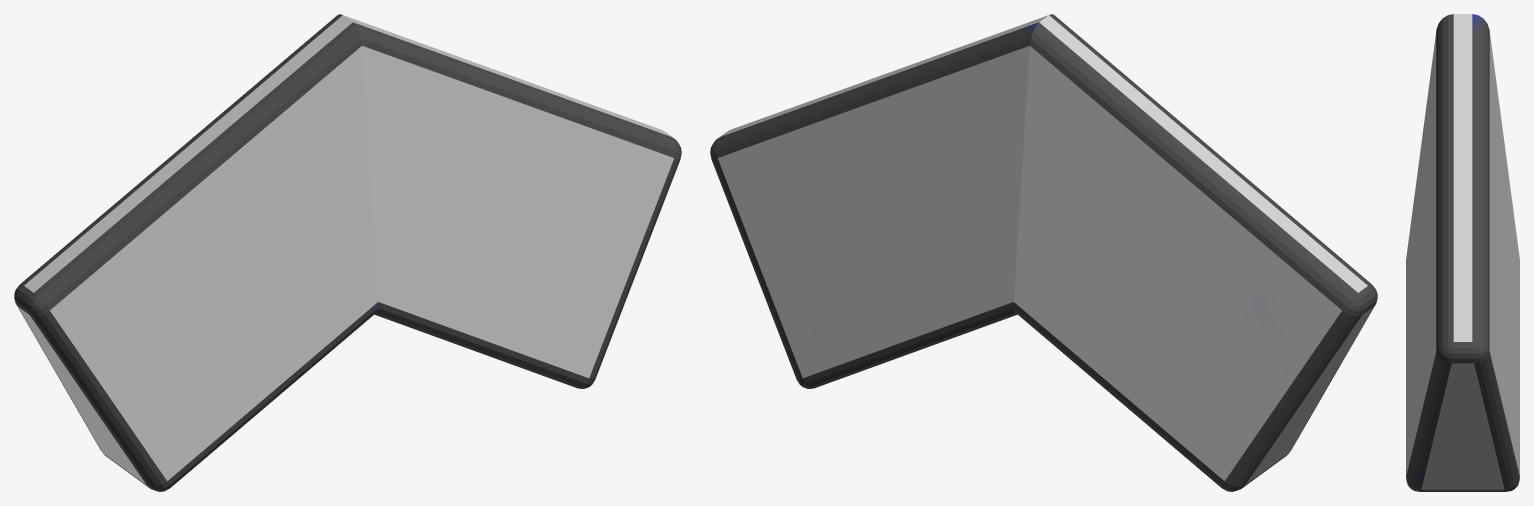
File: superjumpItem.fbx
3 renders of one model, left to right at view 1: azimuth 30°, elevation 25°; view 2: azimuth 150°, elevation 25°; view 3: azimuth 270°, elevation 25°, orthographic. The views are drawn at different scales.
Parts seen in each view (by area): view 1: Cube; view 2: Cube; view 3: Cube.
Part boxes in pixels (x1,y1,x2,y2): Cube: [14, 14, 681, 491]; Cube: [710, 14, 1377, 491]; Cube: [1406, 14, 1519, 491].
Size of the model in its own units: 92.71 by 14.9 by 54.81.
